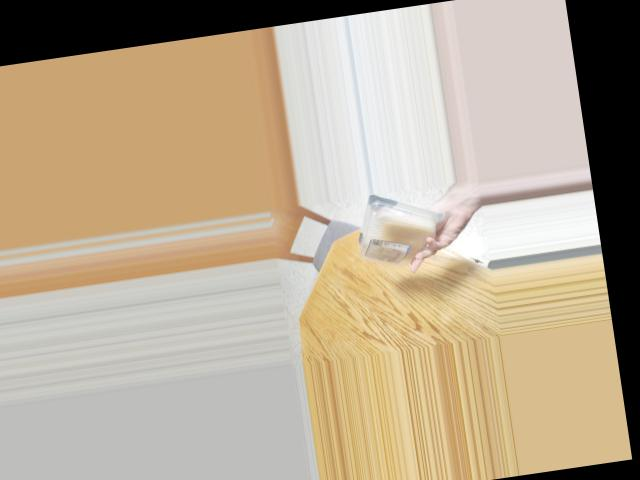cheese: (352, 192, 440, 270)
